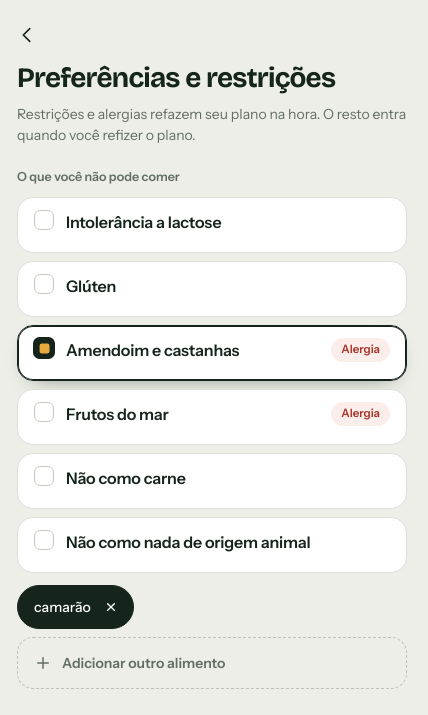
Test: Preferências e restrições (S18) › não aceita outro alimento repetido
The image size is (428, 715).
Click the button "Adicionar outro alimento" at (212,663), box x1=17 y1=637 x2=407 y2=689
(page scrolled)
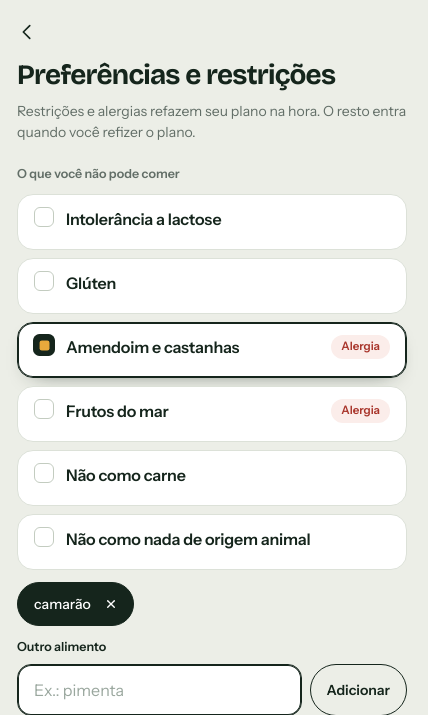
Type "Camarão" into the field labelled "Outro alimento" at (159,690), box x1=17 y1=664 x2=302 y2=714
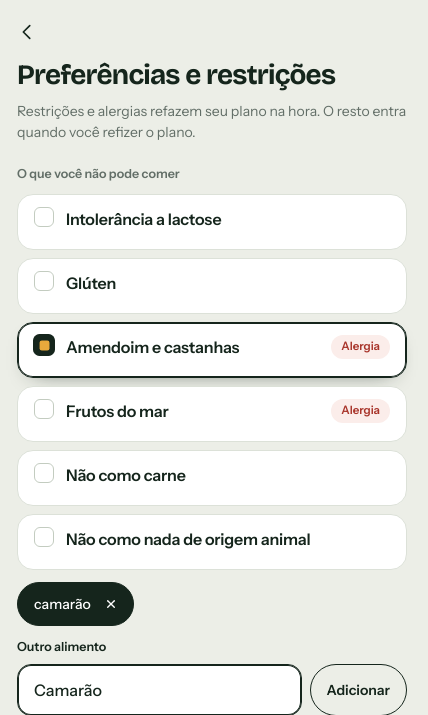
Click the button "Adicionar" at (358,690), box x1=310 y1=664 x2=407 y2=714
(page scrolled)
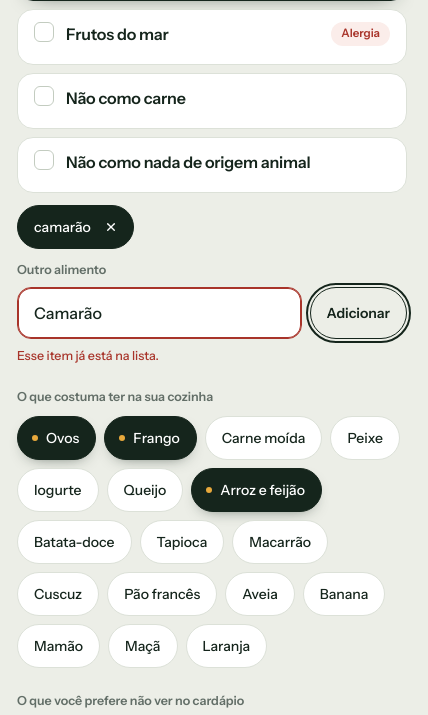
Check: the text "Esse item já está na lista." is shown, box x1=17 y1=348 x2=159 y2=362
